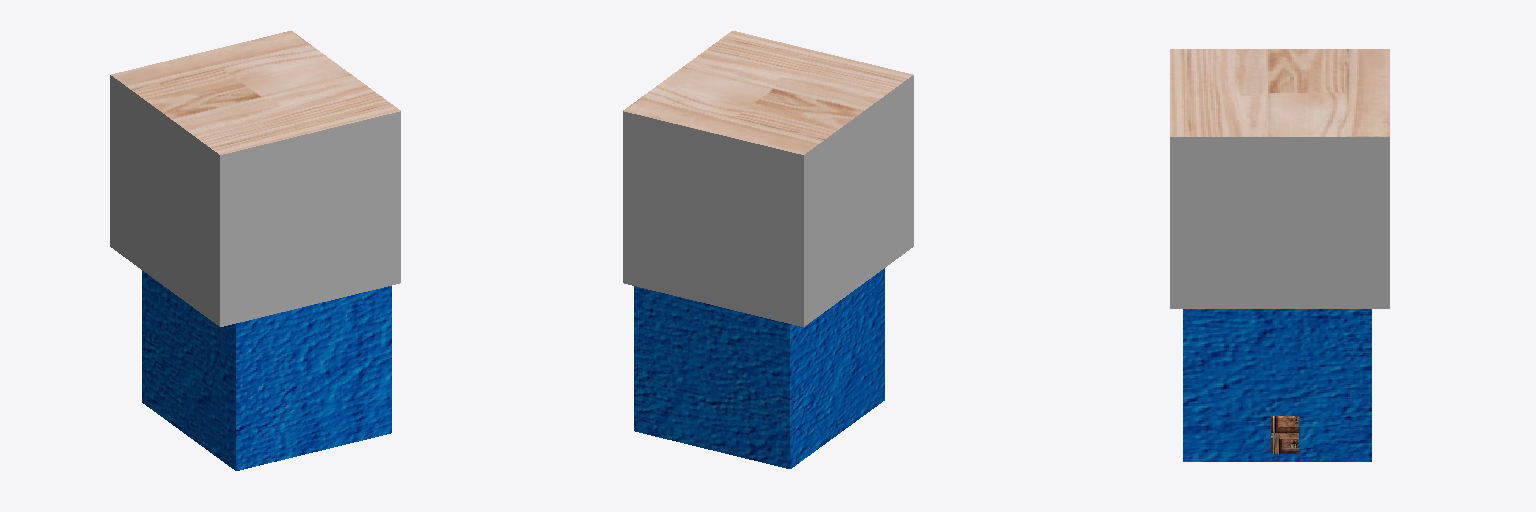
3 renders of one model, left to right at view 1: azimuth 30°, elevation 25°; view 2: azimuth 150°, elevation 25°; view 3: azimuth 270°, elevation 25°, orthographic.
Visible parts, largest first — view 1: Cube.002, Cube.001; view 2: Cube.002, Cube.001; view 3: Cube.002, Cube.001, Cube.
Part boxes in pixels (bbox=[...]): Cube.002: bbox=[110, 31, 400, 326]; Cube.001: bbox=[142, 270, 391, 470]; Cube.002: bbox=[623, 31, 913, 326]; Cube.001: bbox=[634, 268, 884, 468]; Cube.002: bbox=[1170, 49, 1389, 308]; Cube.001: bbox=[1183, 309, 1371, 461]; Cube: bbox=[1271, 416, 1298, 453].
Size of the model in its own units: 10.49 by 18.03 by 11.02.
4 materials, 3 textured.